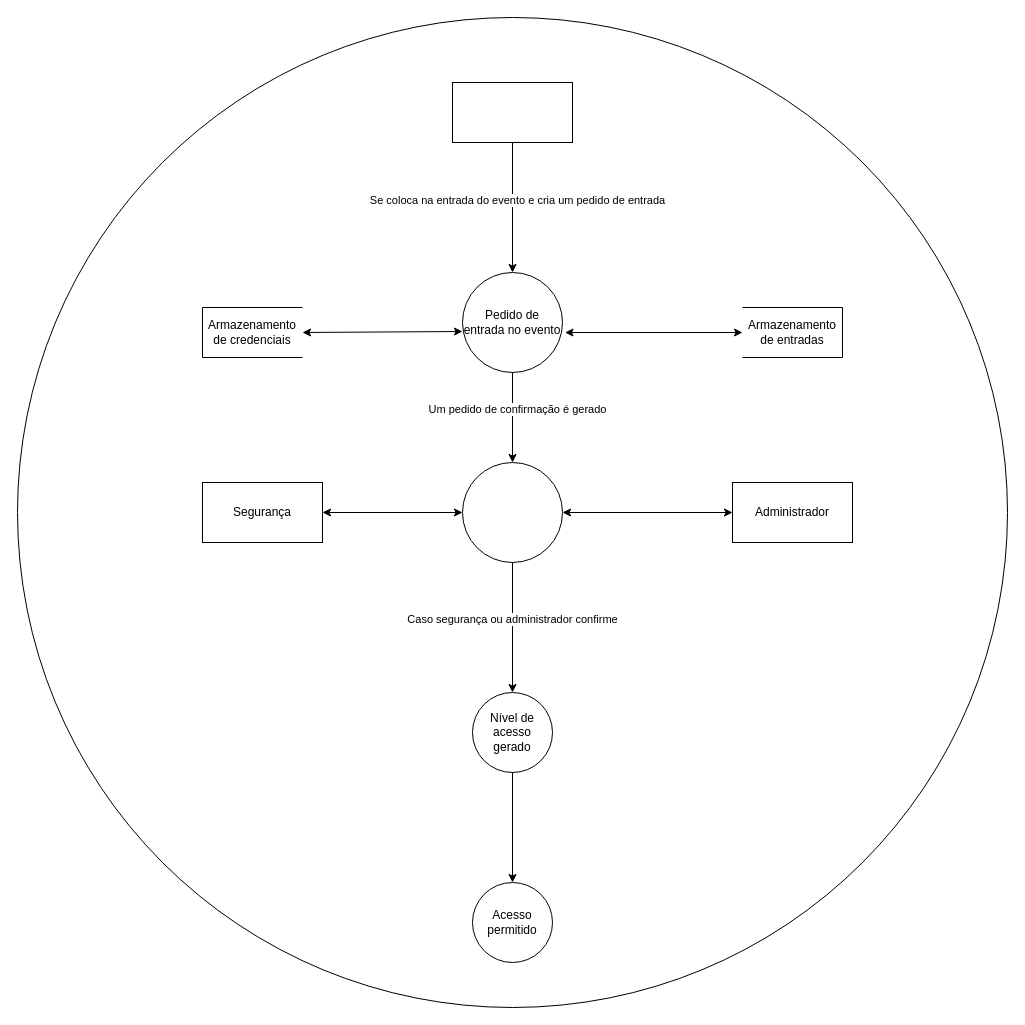
Some shapes in this 1025 by 1025 pixel diagram are drawn without their labels. Here are the shapes that lost their labels. From the top down, the centre of each, then its label:
At pixel 512 112: "Funcionário".
At pixel 512 512: "Pedido de confirmação".
